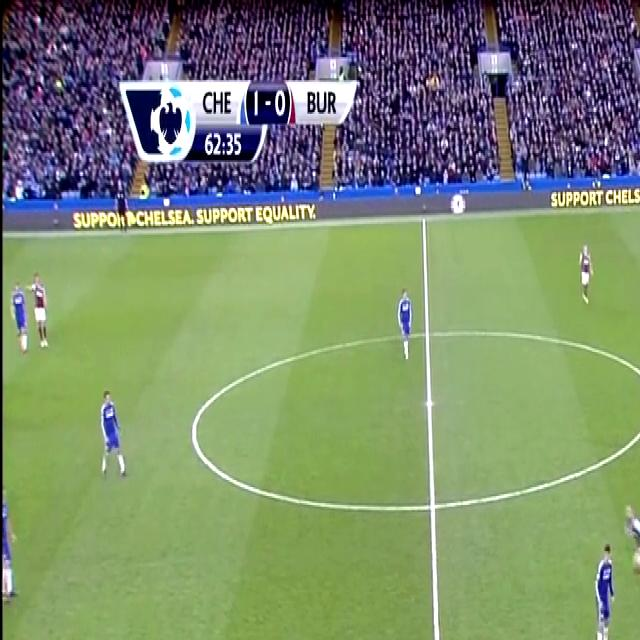soccer-player: (95, 380, 137, 490), (584, 535, 620, 640), (6, 273, 32, 359), (28, 270, 52, 360), (397, 278, 419, 366), (624, 494, 640, 603), (577, 238, 595, 312)
